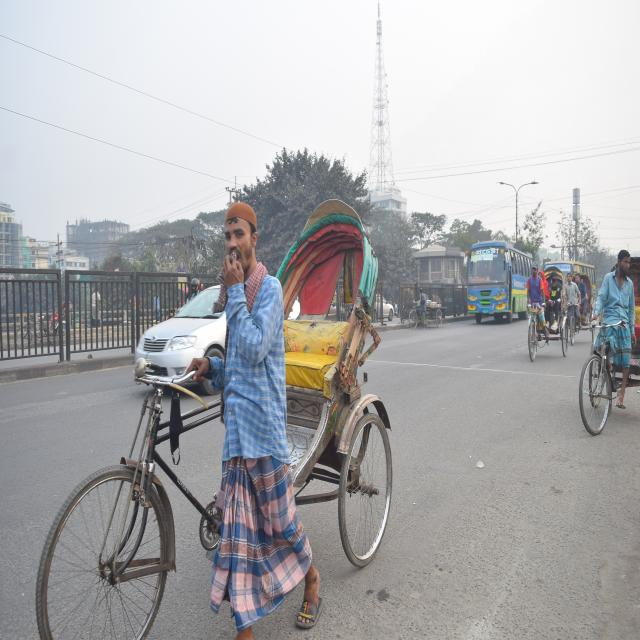bus: (467, 237, 531, 325)
car: (117, 250, 229, 398)
